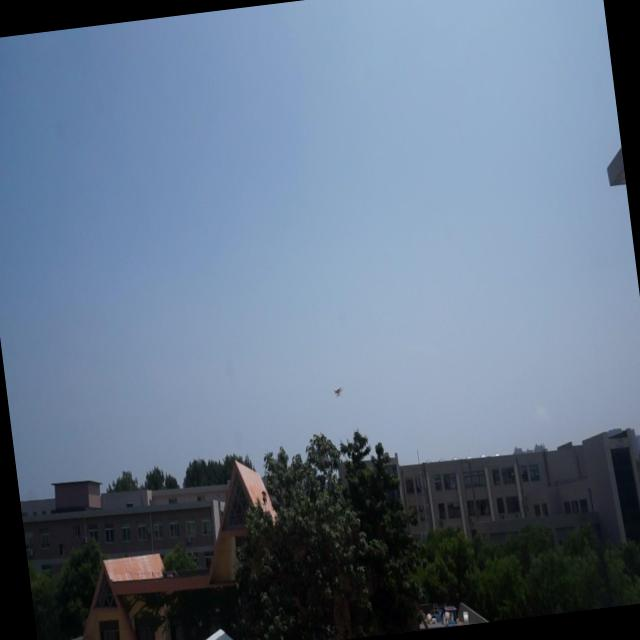drone: (330, 379, 345, 400)
